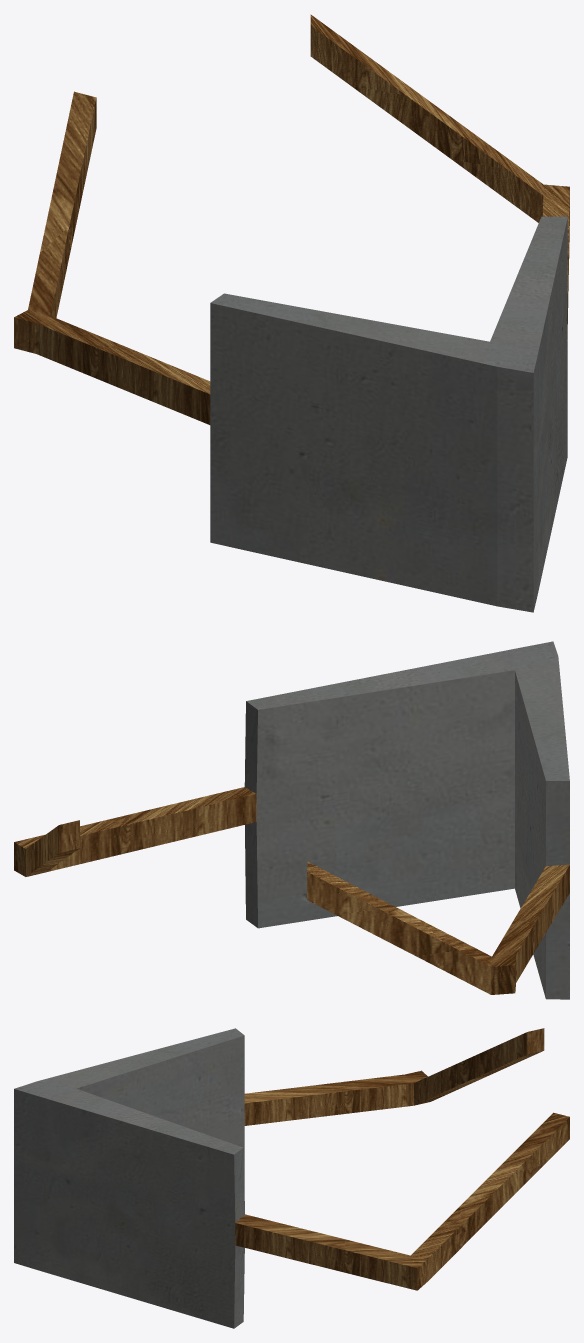
Rendered from Plough.FBX.
3 renders of one model, top to bottom at view 1: azimuth 30°, elevation 25°; view 2: azimuth 150°, elevation 25°; view 3: azimuth 270°, elevation 25°, orthographic. The views are drawn at different scales.
Parts seen in each view (by area): view 1: Box001; view 2: Box001; view 3: Box001.
Part boxes in pixels (x1=…): Box001: x1=14, y1=14, x2=569, y2=612; Box001: x1=14, y1=641, x2=569, y2=999; Box001: x1=14, y1=1028, x2=569, y2=1328.
Size of the model in its own units: 24.15 by 28.94 by 11.65.
Materials: 2 (2 with a texture image).
